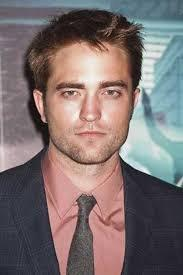Sober: (51, 50, 132, 152)
